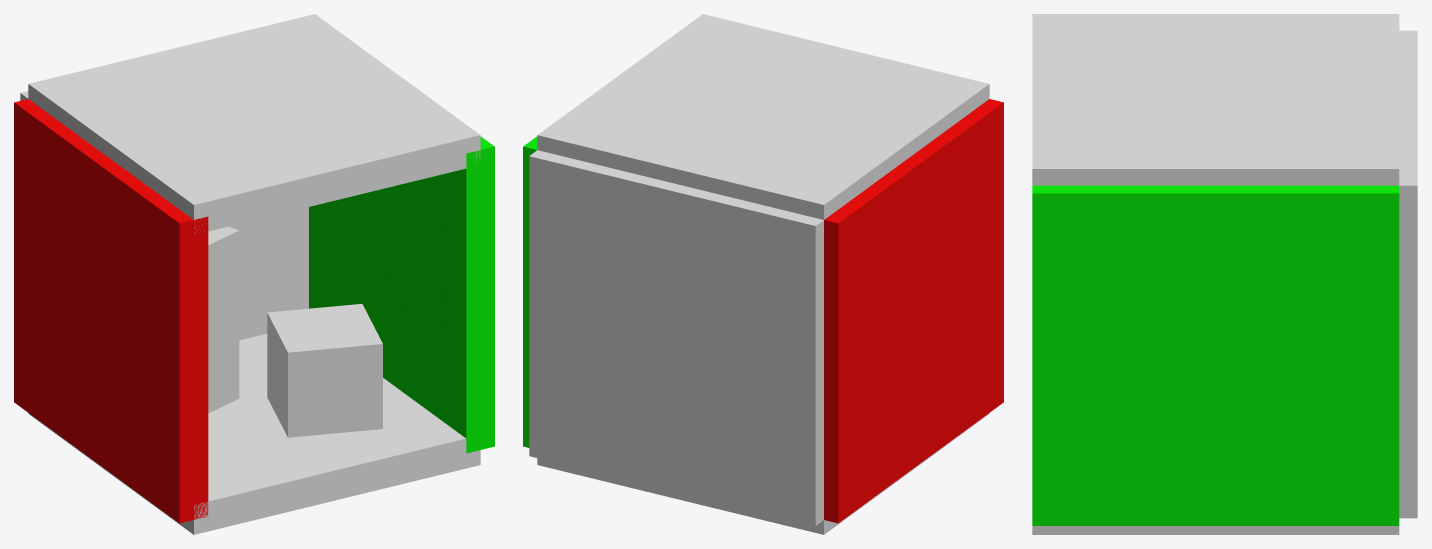
The model's file is cornell_boxes_specular.glb.
3 views of the same model, side by side, from view 1: azimuth 30°, elevation 25°; view 2: azimuth 150°, elevation 25°; view 3: azimuth 270°, elevation 25° (orthographic). The views are drawn at different scales.
Parts seen in each view (by area): view 1: Cube.001, Cube.002, Cube.003, Cube.004, Cube.006, Cube, Cube.007; view 2: Cube, Cube.001, Cube.002, Cube.004, Cube.003; view 3: Cube.003, Cube.002, Cube, Cube.004.
Part boxes in pixels (x1=…): Cube.001: x1=14, y1=99, x2=208, y2=523; Cube.002: x1=28, y1=14, x2=480, y2=234; Cube.003: x1=309, y1=136, x2=494, y2=453; Cube.004: x1=28, y1=334, x2=480, y2=534; Cube.006: x1=267, y1=304, x2=382, y2=437; Cube: x1=20, y1=91, x2=308, y2=340; Cube.007: x1=208, y1=226, x2=239, y2=413; Cube: x1=529, y1=150, x2=823, y2=525; Cube.001: x1=824, y1=99, x2=1003, y2=523; Cube.002: x1=537, y1=14, x2=989, y2=219; Cube.004: x1=537, y1=413, x2=989, y2=534; Cube.003: x1=523, y1=136, x2=537, y2=447; Cube.003: x1=1032, y1=185, x2=1399, y2=525; Cube.002: x1=1032, y1=14, x2=1399, y2=185; Cube: x1=1399, y1=30, x2=1417, y2=518; Cube.004: x1=1032, y1=526, x2=1399, y2=534.
Bounding box in the file's own units: 2.2 × 2.2 × 2.1.
